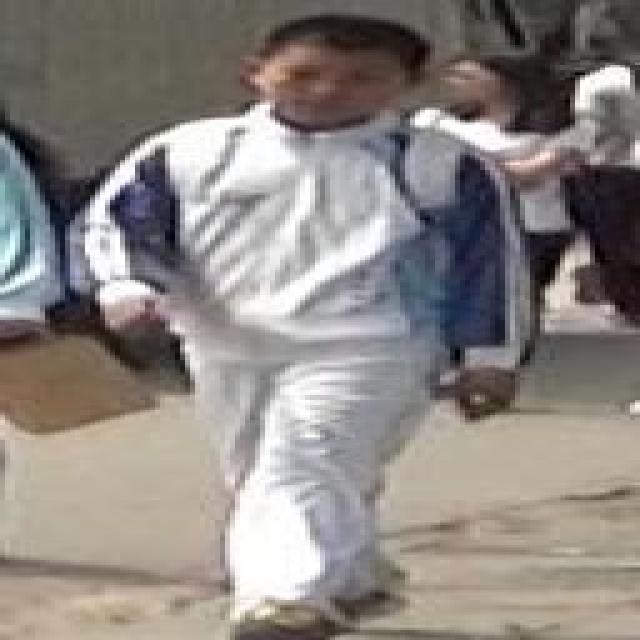adult: (394, 50, 594, 370)
child: (69, 22, 547, 640)
